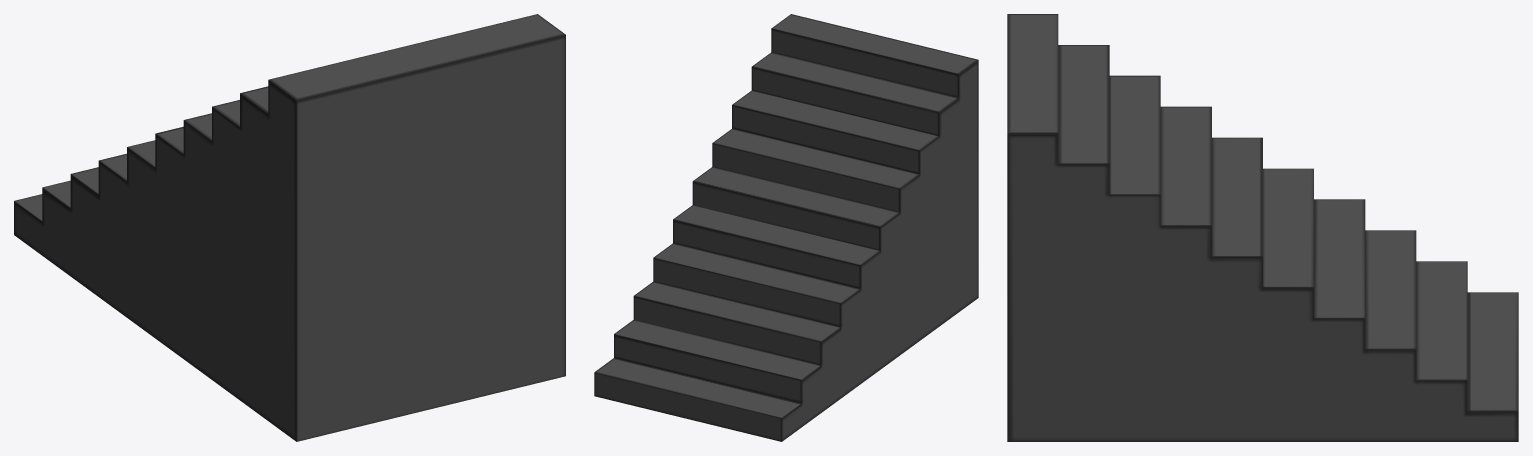
File: MERDİVEN_SAGLAM.fbx
The picture shows the model from 3 angles, left to right: view 1: azimuth 30°, elevation 25°; view 2: azimuth 150°, elevation 25°; view 3: azimuth 270°, elevation 25°; orthographic projection. The views are drawn at different scales.
Visible parts, largest first — view 1: Stairs_0_35___1_.002; view 2: Stairs_0_35___1_.002; view 3: Stairs_0_35___1_.002.
Boxes of the visible parts, x1,y1,x2,y2 form: Stairs_0_35___1_.002: [14, 14, 565, 441]; Stairs_0_35___1_.002: [594, 14, 978, 441]; Stairs_0_35___1_.002: [1007, 14, 1518, 441].
Size of the model in its own units: 3 by 3.64 by 5.45.
1 material, 1 textured.
